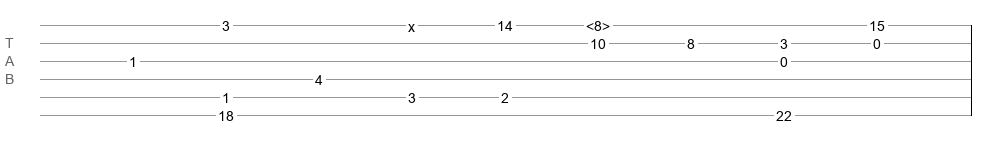0: (780, 54, 788, 64), (873, 36, 881, 46)
1: (129, 54, 137, 64), (222, 90, 230, 100)
10: (590, 36, 606, 46)
14: (497, 18, 513, 28)
15: (869, 18, 885, 28)
18: (218, 108, 234, 118)
2: (501, 90, 509, 100)
22: (776, 108, 792, 118)
3: (222, 18, 230, 28), (408, 90, 416, 100), (780, 36, 788, 46)
4: (315, 72, 323, 82)
8: (687, 36, 695, 46)
harmonic: (586, 18, 610, 28)
x: (408, 19, 415, 27)
